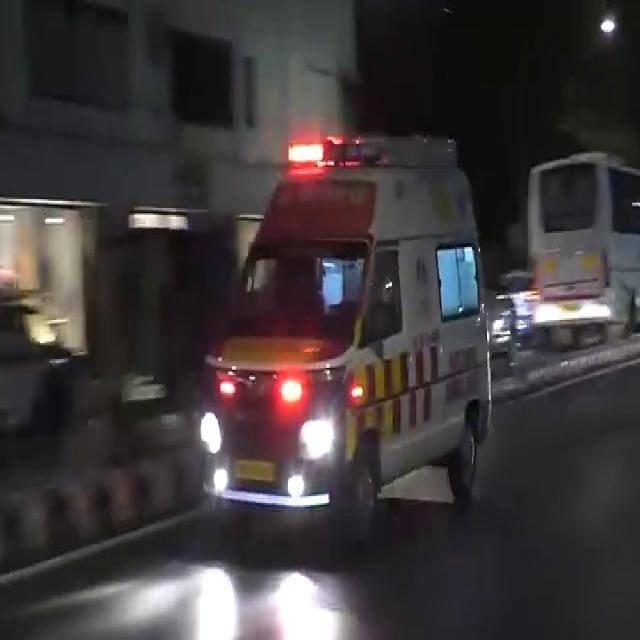ambulance: (208, 166, 492, 517)
